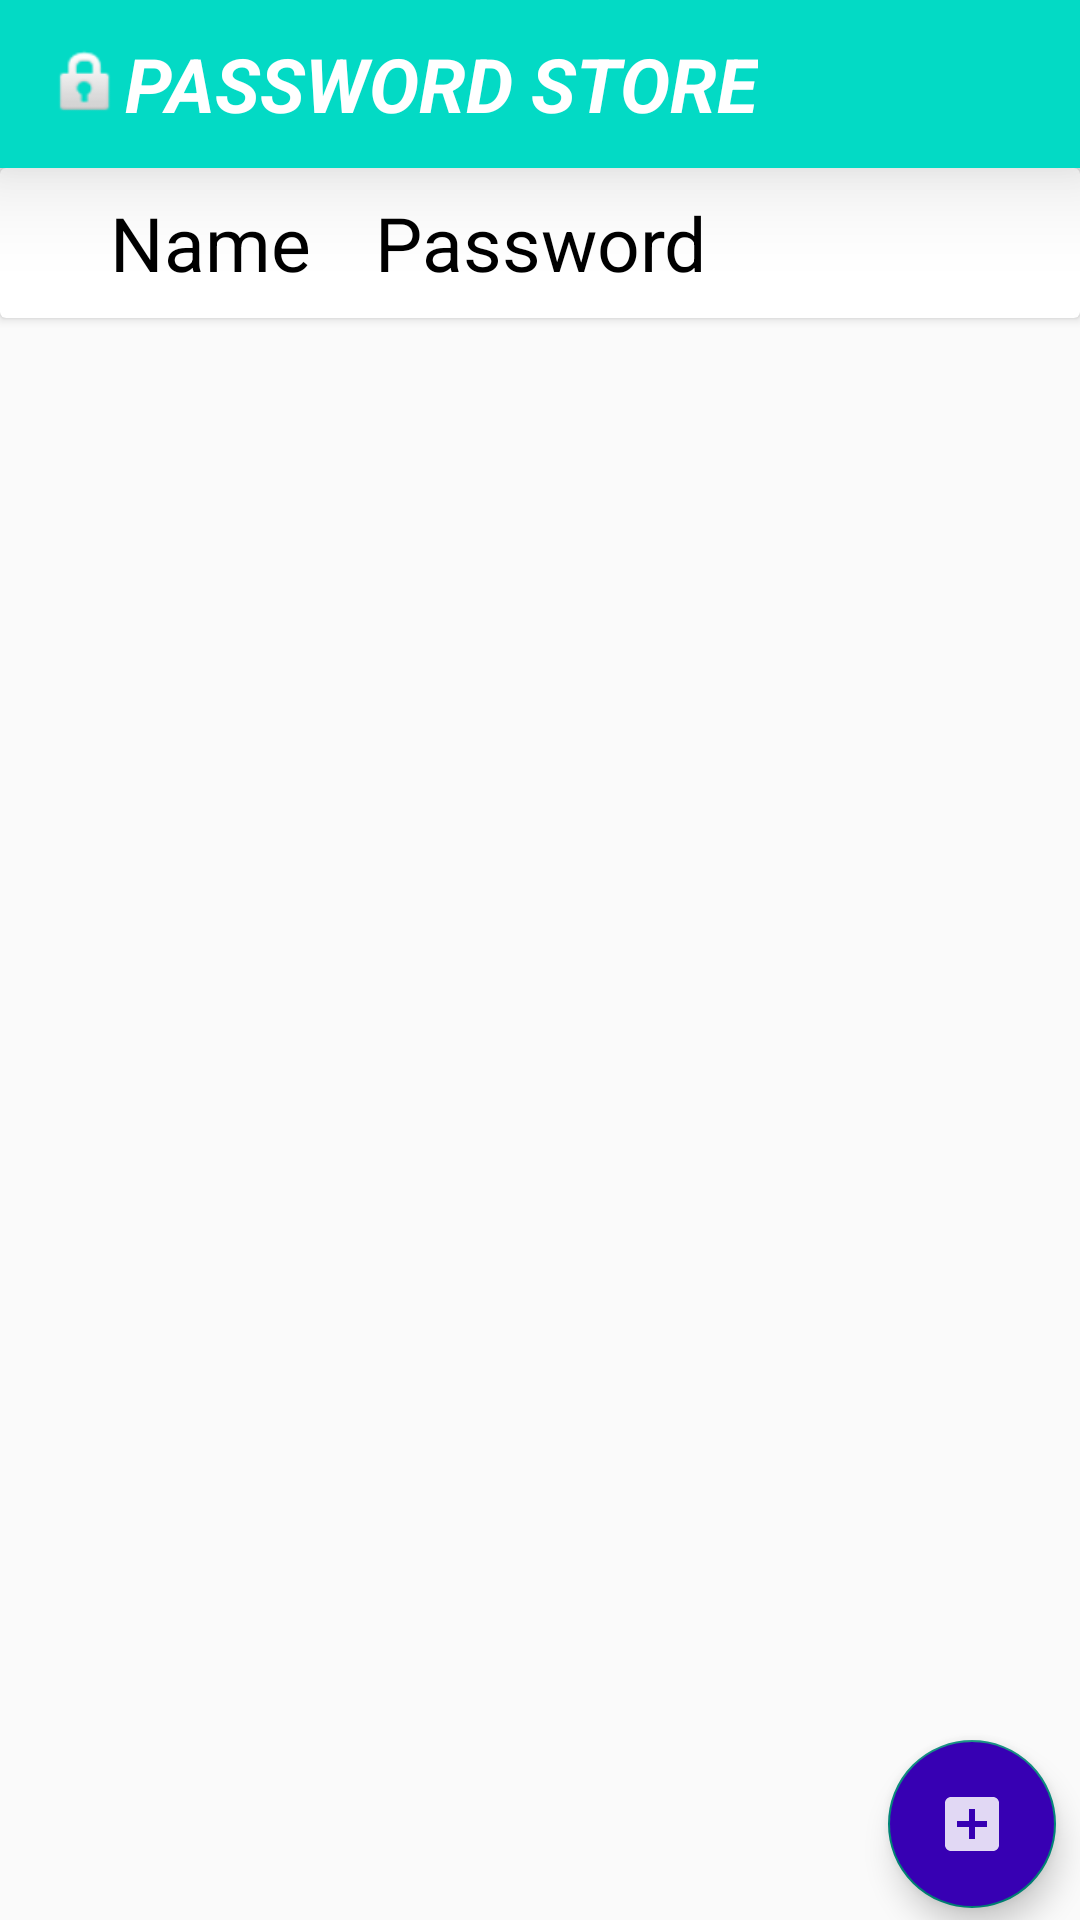

Named icons in this screenshot (1080 x 1920) and their bounding boxes, (x1, y1, x2, y2):
Add Button: (888, 1740, 1056, 1908)
